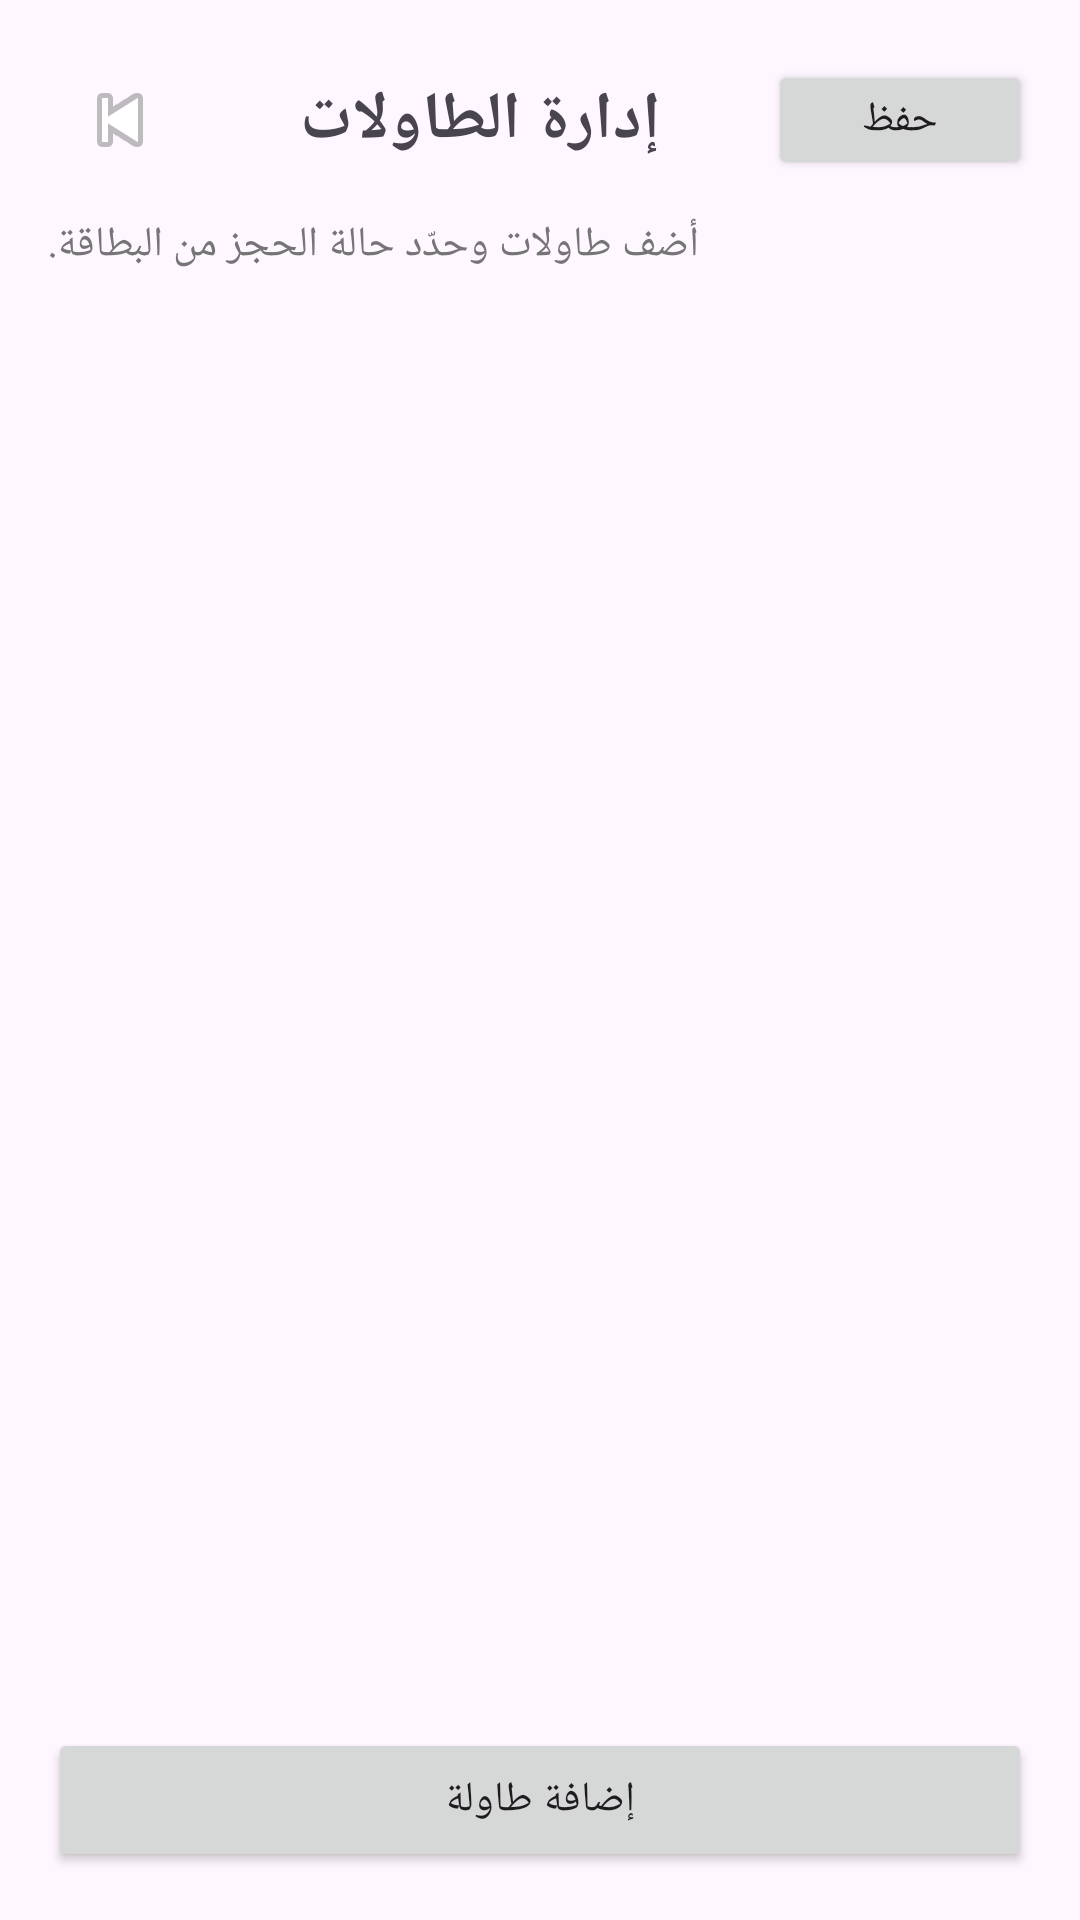

Screen size 1080px x 1920px. Icon name, then its box in pixels as (x1, y1, x2, y2):
رجوع: (97, 93, 143, 147)
